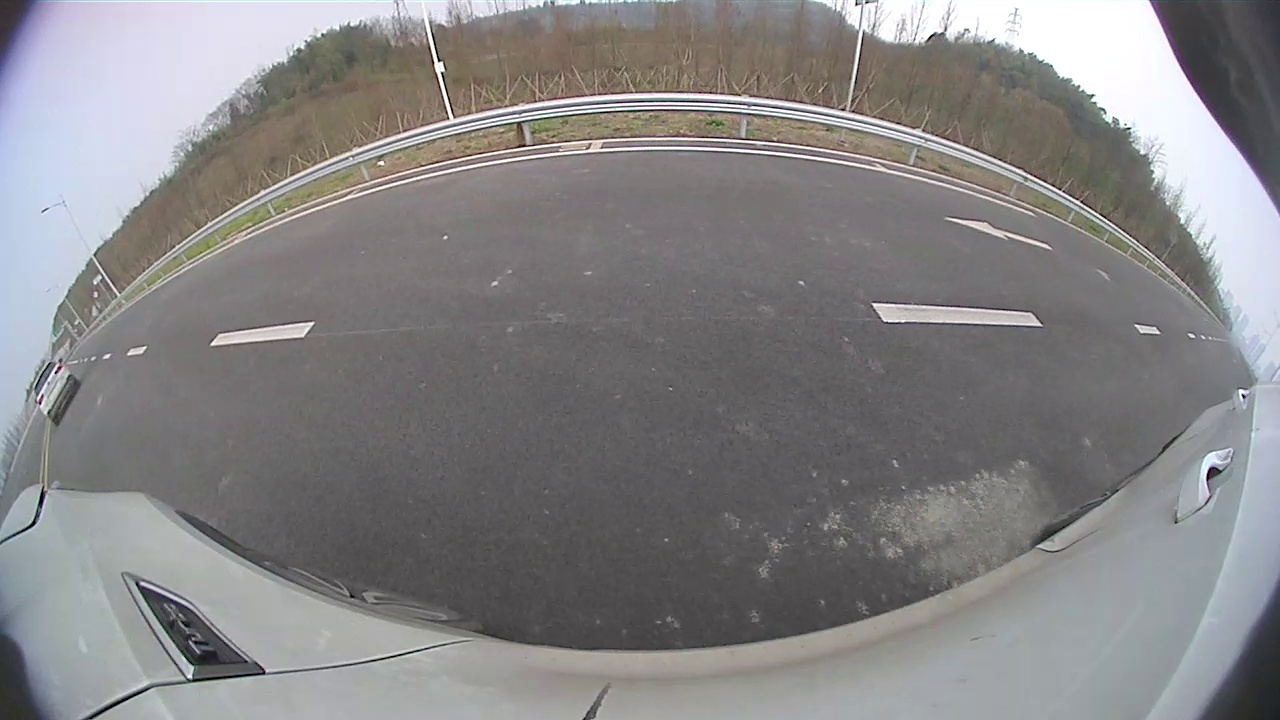car: (31, 358, 81, 426)
